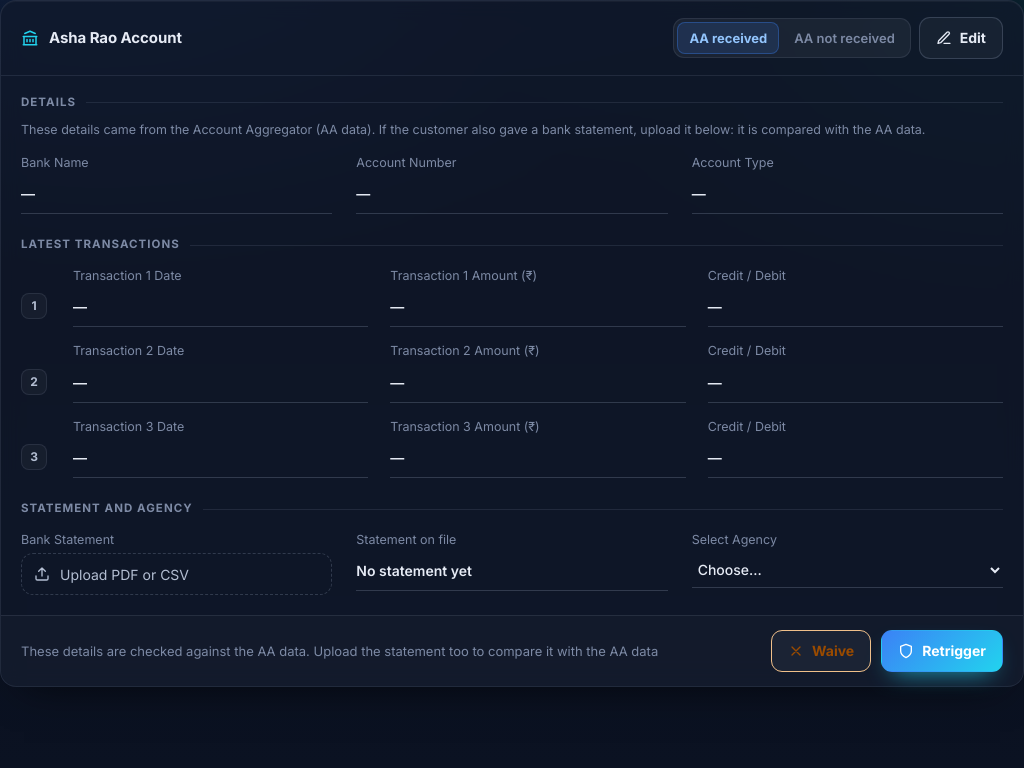
BankAccountPanel actions by AA › AA received: Waive and Retrigger; AA not received: Run verification
Check: the button "Waive" is shown, box [771,630,871,672]
Check: the button "Retrigger" is shown, box [881,630,1003,672]
Click the button "AA not received". click: coordinates (844, 38)
box: [782,22,907,54]
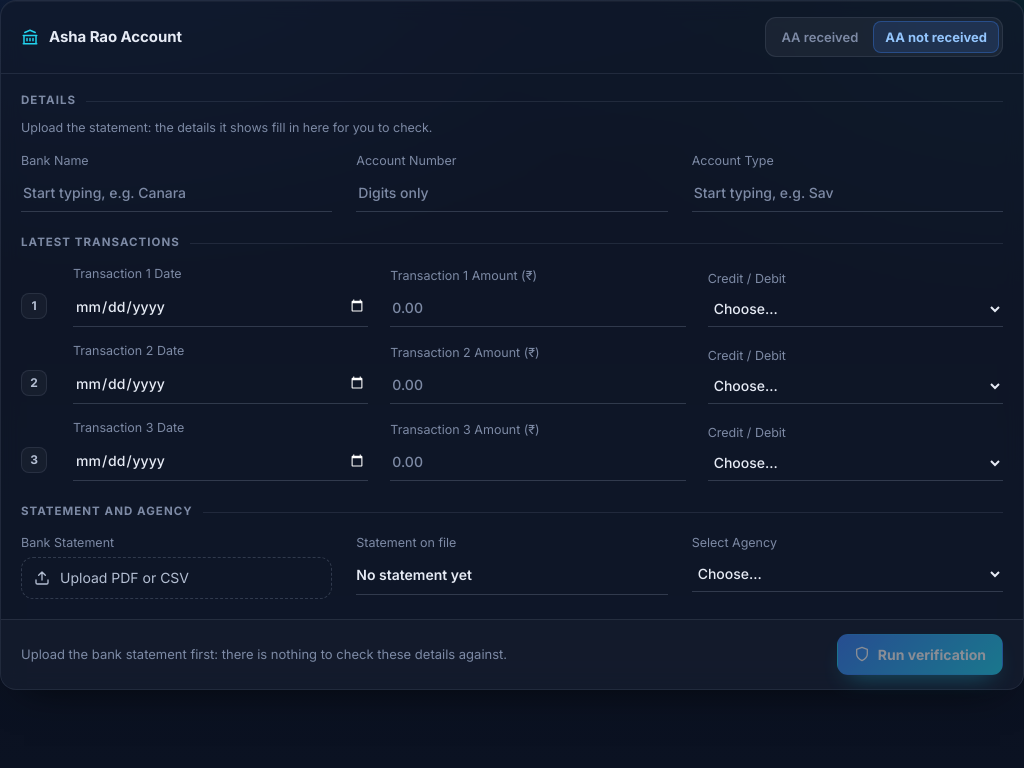
Check: the button "Run verification" is shown, box [837,634,1003,675]
Check: the button "Retrigger" is gone
